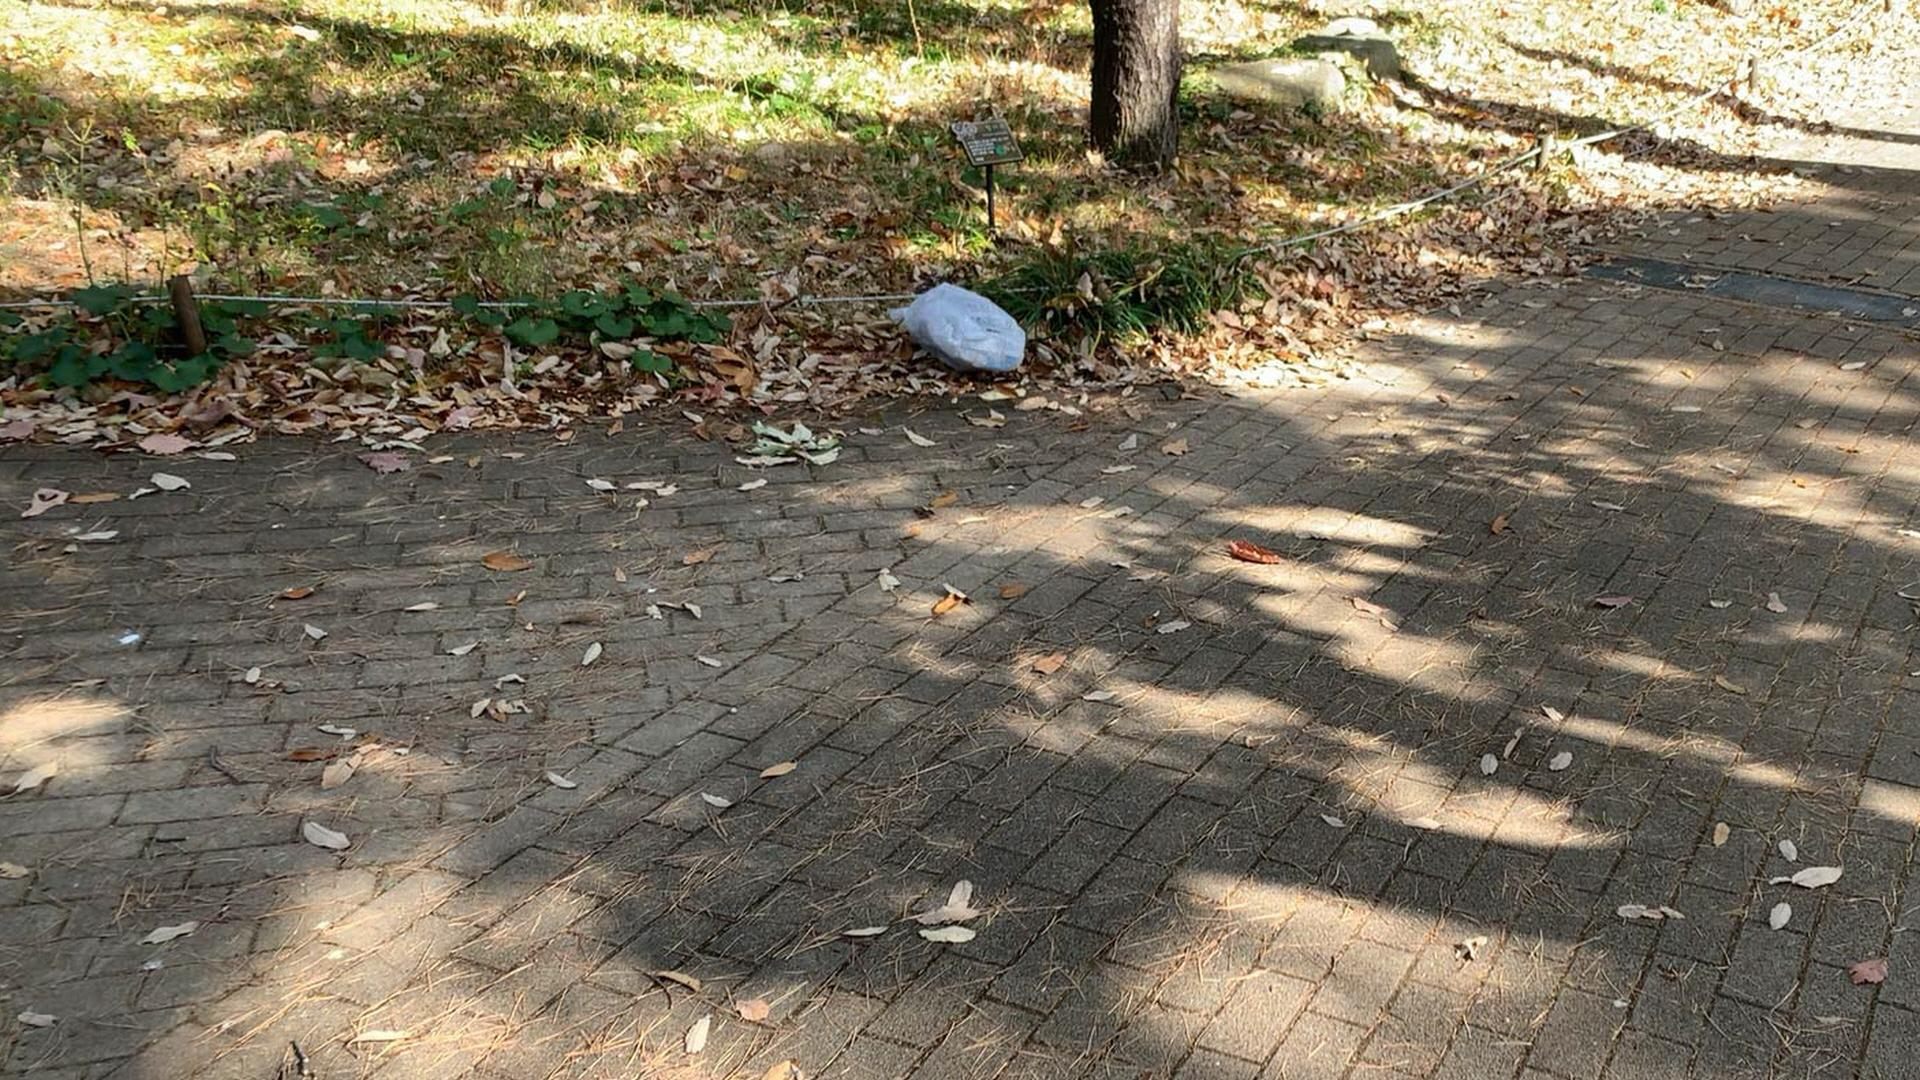white_bag: (880, 277, 1033, 385)
